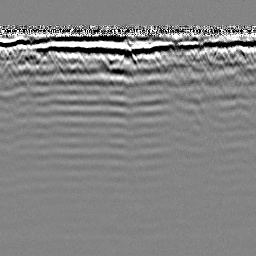cavity: (118, 46, 139, 67)
